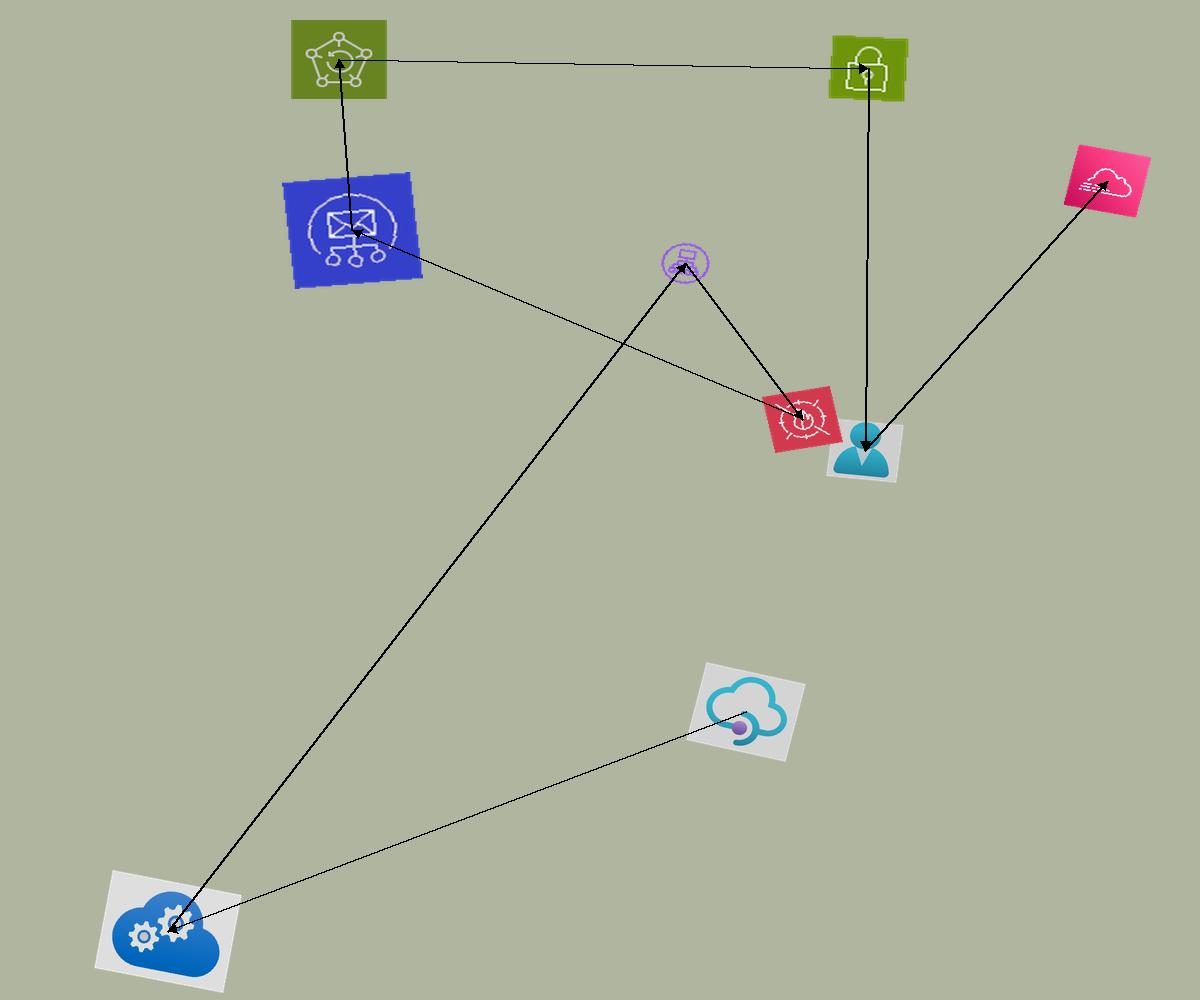AWS-Backup: (290, 19, 388, 100)
AWS-CloudTrail: (1063, 144, 1152, 218)
AWS-Public-subnet: (827, 34, 910, 103)
AWS-Res_Elastic-Load-Balancing_Application-Load-Balancer: (654, 237, 717, 290)
AWS-Simple-Email-Service: (282, 172, 423, 289)
AWS-WAF: (762, 386, 843, 453)
Azure_api_gateway: (686, 662, 806, 762)
Azure_cloud_services: (94, 870, 242, 993)
Azure_users: (826, 418, 904, 483)
